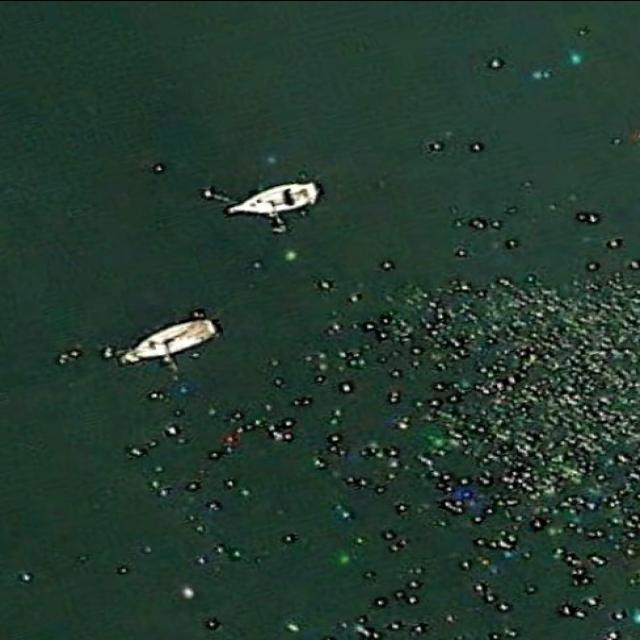ship: (112, 314, 222, 364), (219, 178, 321, 216)
